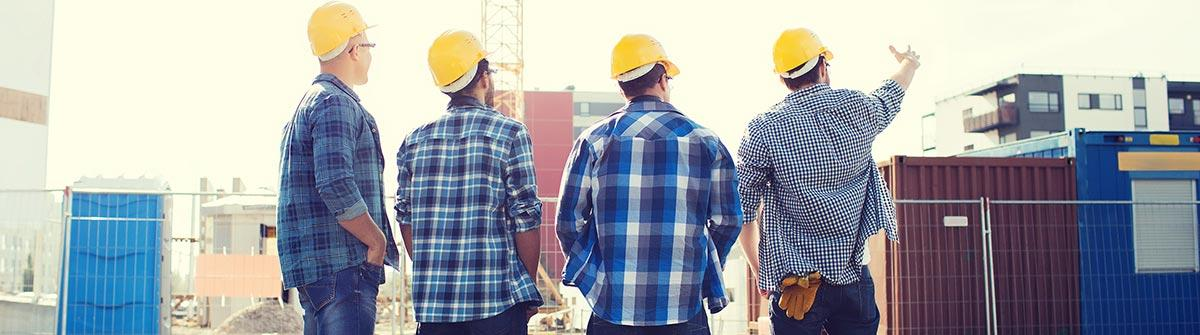helmet: (427, 31, 490, 89), (614, 34, 678, 85), (775, 27, 833, 80), (308, 5, 372, 53)
